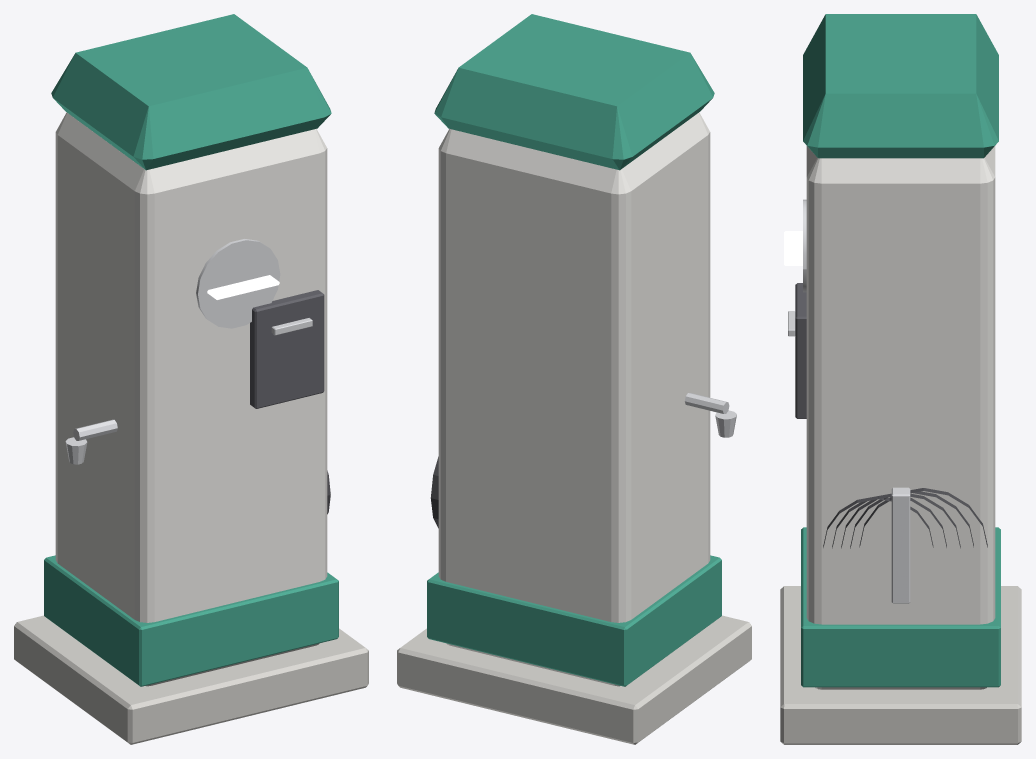
Rendered from petrol-station-and-forecourt-shop-air-and-water-tower-81ec4159__33948.glb.
3 renders of one model, left to right at view 1: azimuth 30°, elevation 25°; view 2: azimuth 150°, elevation 25°; view 3: azimuth 270°, elevation 25°, orthographic. The views are drawn at different scales.
Visible parts, largest first — view 1: air-and-water-tower; view 2: air-and-water-tower; view 3: air-and-water-tower.
Part boxes in pixels (x1,y1,x2,y2): air-and-water-tower: (14, 14, 368, 744); air-and-water-tower: (397, 14, 751, 744); air-and-water-tower: (780, 14, 1021, 744).
Size of the model in its own units: 0.83 by 1.85 by 0.64.
